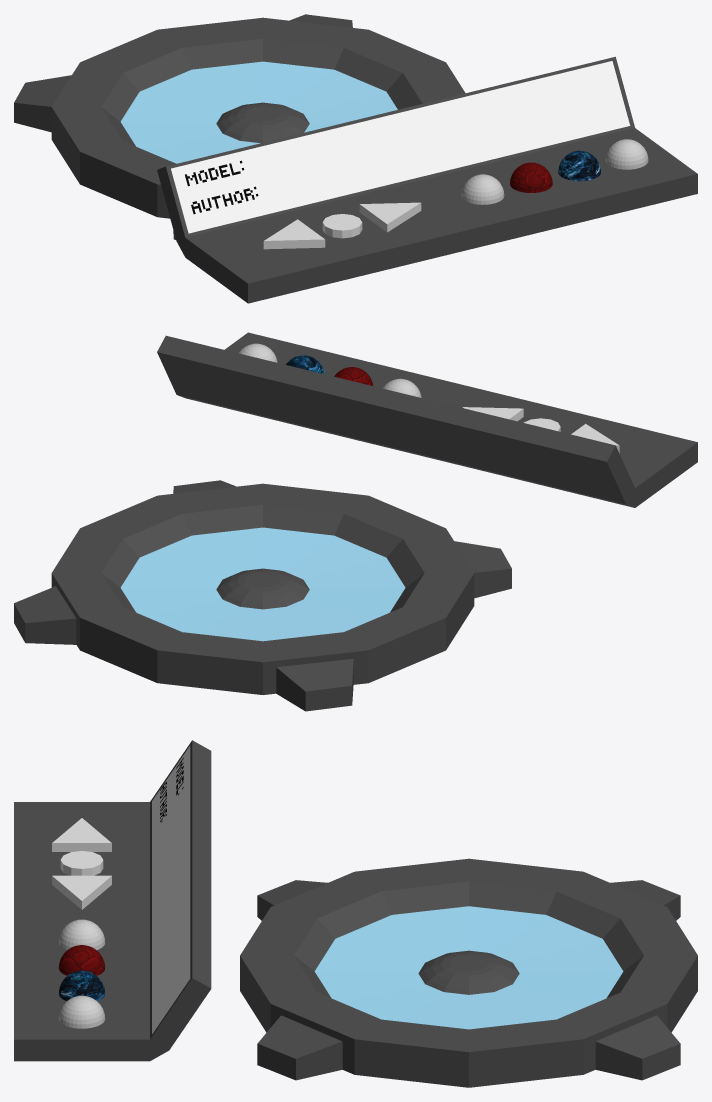
File: GorillaTag_misc.fbx
The picture shows the model from 3 angles, top to bottom: view 1: azimuth 30°, elevation 25°; view 2: azimuth 150°, elevation 25°; view 3: azimuth 270°, elevation 25°; orthographic projection. The views are drawn at different scales.
Parts seen in each view (by area): view 1: Circle.002, Circle, Cube.003, Cube.002, Spheres.003, Spheres.002, Spheres, Spheres.001, Circle.003, Circle.001; view 2: Circle, Circle.002; view 3: Circle, Circle.002, Cube.003, Cube.002, Spheres.003, Spheres, Spheres.001, Spheres.002, Circle.001.
Boxes of the visible parts, left/top/right/bottom form: Circle.002: left=157, top=56, right=697, bottom=303; Circle: left=14, top=14, right=465, bottom=239; Cube.003: left=359, top=202, right=421, bottom=232; Cube.002: left=263, top=219, right=325, bottom=249; Spheres.003: left=605, top=139, right=648, bottom=169; Spheres.002: left=558, top=150, right=600, bottom=181; Spheres: left=461, top=174, right=504, bottom=204; Spheres.001: left=510, top=162, right=552, bottom=192; Circle.003: left=185, top=160, right=258, bottom=214; Circle.001: left=322, top=214, right=362, bottom=238; Circle: left=14, top=480, right=511, bottom=711; Circle.002: left=157, top=332, right=697, bottom=507; Circle: left=240, top=858, right=697, bottom=1087; Circle.002: left=14, top=740, right=211, bottom=1061; Cube.003: left=52, top=875, right=111, bottom=909; Cube.002: left=52, top=818, right=111, bottom=851; Spheres.003: left=58, top=995, right=105, bottom=1028; Spheres: left=58, top=919, right=105, bottom=950; Spheres.001: left=58, top=945, right=105, bottom=975; Spheres.002: left=58, top=970, right=105, bottom=1000; Circle.001: left=60, top=851, right=103, bottom=875.
Size of the model in its own units: 154 by 39.74 by 187.
